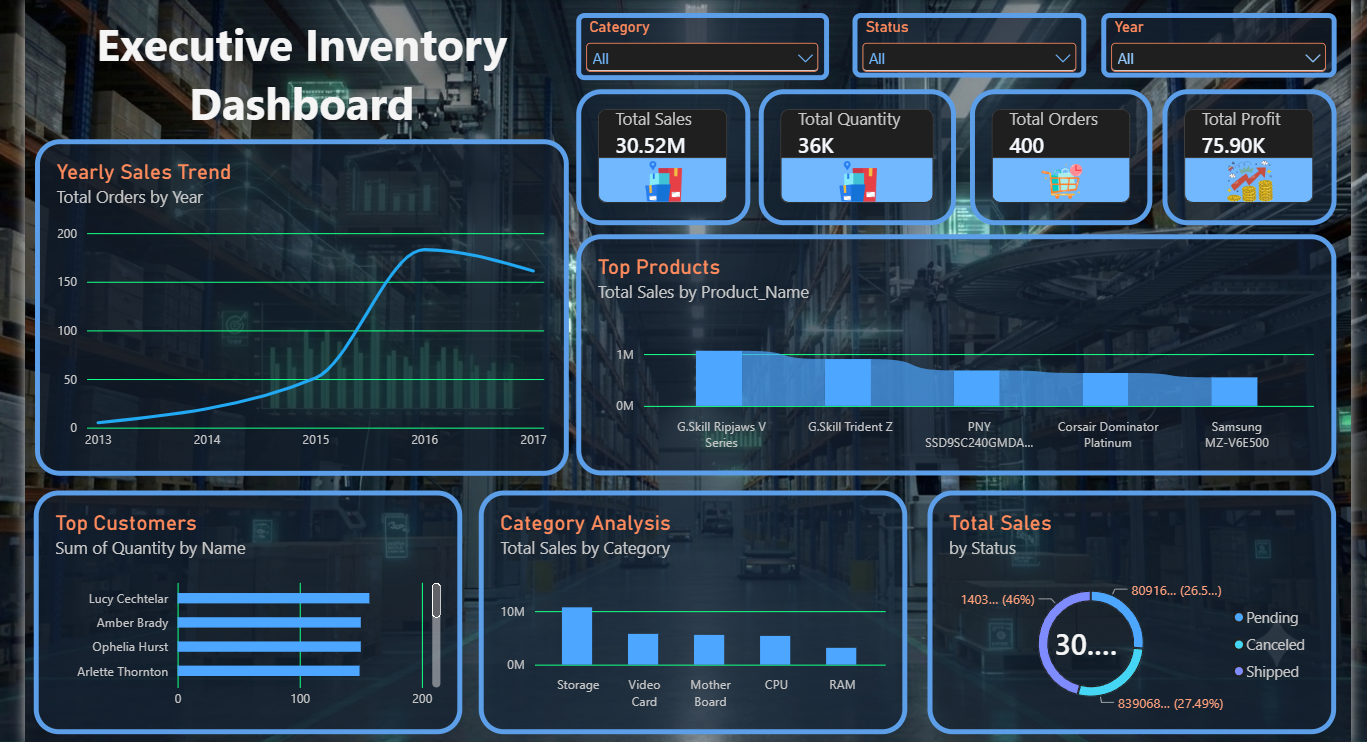

This screenshot's page, from the dashboard's own definition file:
{"tool":"powerbi","page":{"name":"EXECUTIVE INVENTORY","canvas":[1280,720],"ordinal":0},"visuals":[{"type":"cardVisual","fields":{"Data":["Customer.Total Quantity"]},"box":[708.2,88.1,190.6,131.5],"z":0},{"type":"lineChart","title":"Yearly Sales Trend","fields":{"Category":["Orders.OrderDate.Variation.Date Hierarchy.Year","Orders.OrderDate.Variation.Date Hierarchy.Quarter","Orders.OrderDate.Variation.Date Hierarchy.Month","Orders.OrderDate.Variation.Date Hierarchy.Day"],"Y":["Customer.Total Orders"]},"box":[9.7,136.3,515.2,324.5],"z":1000},{"type":"cardVisual","fields":{"Data":["Customer.Total Orders"]},"box":[912.1,88.1,176.1,131.5],"z":2000},{"type":"clusteredColumnChart","title":"Category Analysis","fields":{"Category":["Product.Category"],"Y":["Customer.Total Sales"]},"box":[437.9,475.3,413.8,235.3],"z":3000},{"type":"cardVisual","fields":{"Data":["Customer.Total Profit"]},"box":[1097.9,88.1,167.7,131.5],"z":4000},{"type":"clusteredBarChart","title":"Top Customers","fields":{"Category":["Customer.Name"],"Y":["Sum(OrderDetails.Quantity)"]},"box":[8.4,475.3,413.8,235.3],"z":5000},{"type":"slicer","fields":{"Values":["Product.Category"]},"box":[532,14.5,243.7,65.1],"z":6000},{"type":"slicer","fields":{"Values":["Orders.OrderDate.Variation.Date Hierarchy.Year"]},"box":[1038.7,14.5,226.8,62.7],"z":7000},{"type":"ribbonChart","title":"Top Products","fields":{"Category":["Product.Product_Name"],"Y":["Customer.Total Sales"]},"box":[532,228,733.5,232.8],"z":8000},{"type":"donutChart","fields":{"Category":["OrderDetails.Status"],"Y":["Customer.Total Sales"]},"box":[871.1,475.3,394.5,235.3],"z":9000},{"type":"textbox","box":[45.8,0,442.8,146],"z":10000},{"type":"slicer","fields":{"Values":["OrderDetails.Status"]},"box":[798.7,14.5,225.6,62.7],"z":11000},{"type":"cardVisual","fields":{"Data":["Customer.Total Sales"]},"box":[532,88.1,167.7,131.5],"z":12000}]}

Visuals, with their boxes in screenshot pixels (x1, y1, x2, y2):
cardVisual - Customer.Total Quantity: (761, 93, 954, 226)
"Yearly Sales Trend" lineChart: (53, 142, 575, 471)
cardVisual - Customer.Total Orders: (968, 93, 1146, 226)
"Category Analysis" clusteredColumnChart: (487, 486, 907, 724)
cardVisual - Customer.Total Profit: (1156, 93, 1326, 226)
"Top Customers" clusteredBarChart: (51, 486, 471, 724)
slicer - Product.Category: (582, 18, 829, 84)
slicer - Orders.OrderDate.Variation.Date Hierarchy.Year: (1096, 18, 1326, 82)
"Top Products" ribbonChart: (582, 235, 1326, 471)
donutChart - OrderDetails.Status x Customer.Total Sales: (926, 486, 1326, 724)
textbox: (89, 4, 538, 152)
slicer - OrderDetails.Status: (853, 18, 1082, 82)
cardVisual - Customer.Total Sales: (582, 93, 752, 226)
